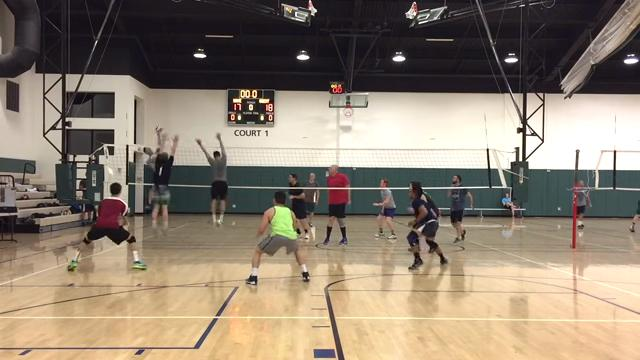attacco: (140, 121, 164, 178)
muro: (142, 133, 184, 239), (194, 130, 233, 229)
